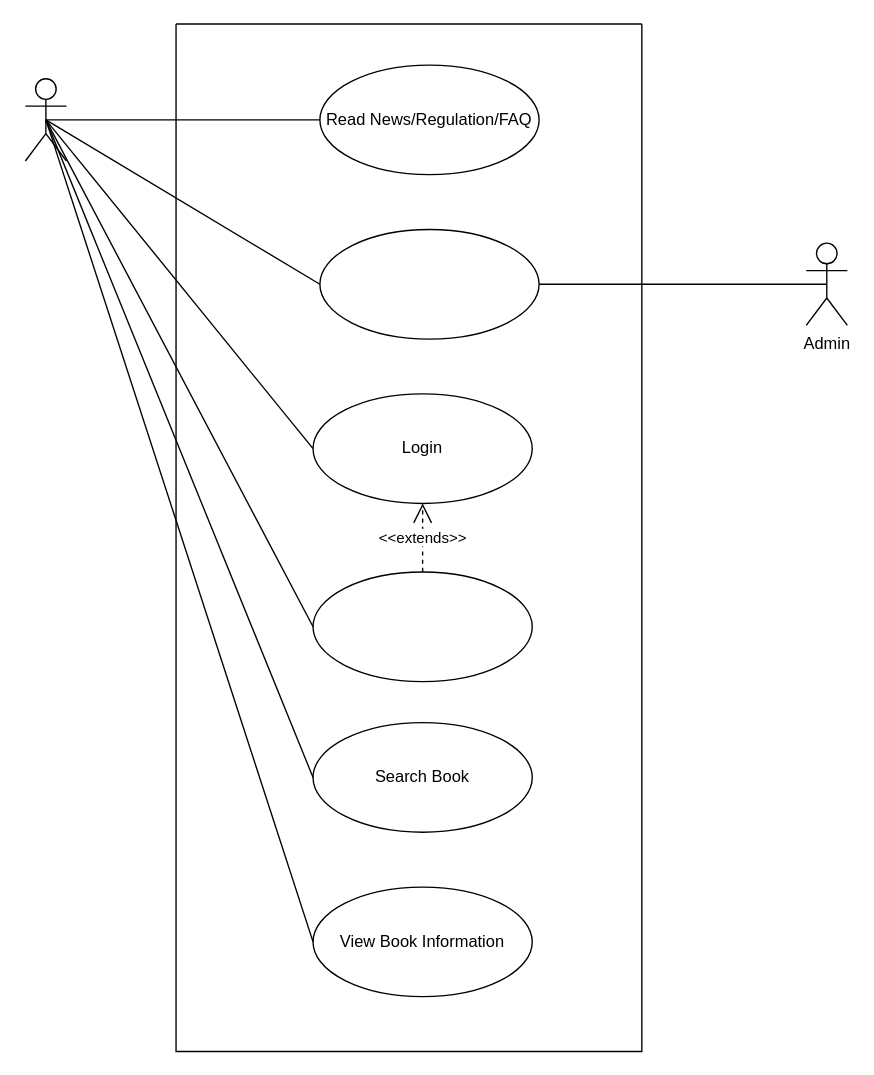
Image size: 874x1075. Some labels were removed from this diagram. The shapes that lost their labels are listed below. From the top down, each one's box as (x1, y1, x2, y2) in pixels, then its label:
(24, 77, 66, 161): Guest
(319, 228, 539, 339): Contact
(312, 571, 532, 682): Register
